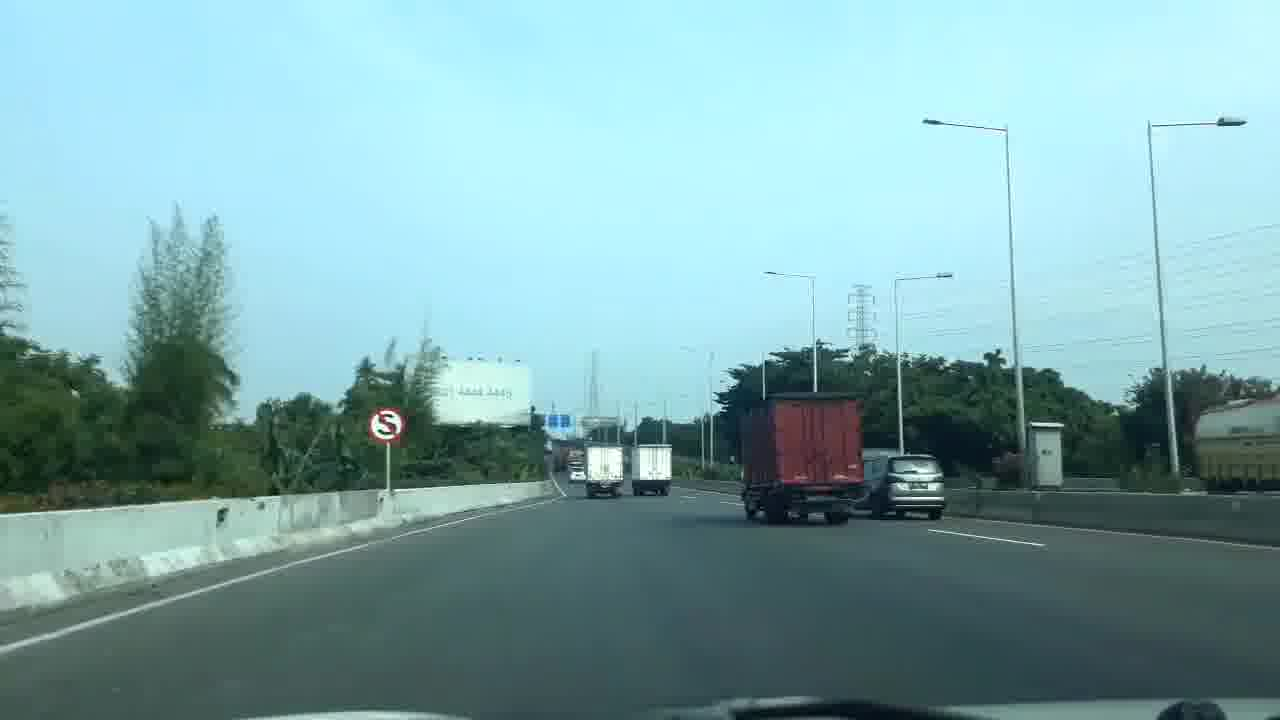plate_positive: (909, 482, 929, 490)
